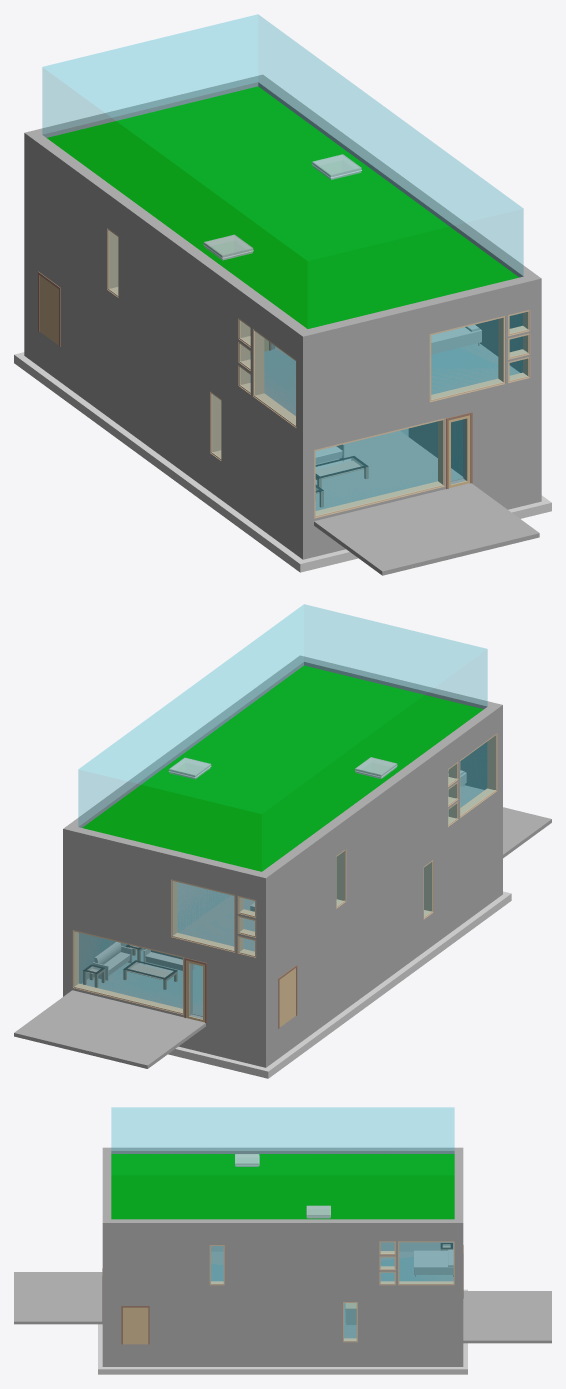
File: duplex.glb
The picture shows the model from 3 angles, top to bottom: view 1: azimuth 30°, elevation 25°; view 2: azimuth 150°, elevation 25°; view 3: azimuth 270°, elevation 25°; orthographic projection. The views are drawn at different scales.
Parts seen in each view (by area): view 1: 0pNy6pOyf7JPmXRLgxs3sW, 3ThA22djr8AQQ9eQMA5s7I, 2O2Fr$t4X7Zf8NOew3FNhv, 2O2Fr$t4X7Zf8NOew3FLPP, 2O2Fr$t4X7Zf8NOew3FLOH, 1CZILmCaHETO8tf3SgGEXu, 2O2Fr$t4X7Zf8NOew3FNr2, 2O2Fr$t4X7Zf8NOew3FKE5, 1hOSvn6df7F8_7GcBWlRBU, 0jf0rYHfX3RAB3bSIRjmr1, 2OBrcmyk58NupXoVOHUtxr, 0jf0rYHfX3RAB3bSIRjmoa (+22 smaller); view 2: 0pNy6pOyf7JPmXRLgxs3sW, 3ThA22djr8AQQ9eQMA5s7I, 2O2Fr$t4X7Zf8NOew3FNhv, 2O2Fr$t4X7Zf8NOew3FLPP, 2O2Fr$t4X7Zf8NOew3FLQD, 1CZILmCaHETO8tf3SgGEWh, 2O2Fr$t4X7Zf8NOew3FNtn, 2O2Fr$t4X7Zf8NOew3FKE5, 1hOSvn6df7F8_7GcBWlR72, 0jf0rYHfX3RAB3bSIRjmr1, 0jf0rYHfX3RAB3bSIRjmmy, 1hOSvn6df7F8_7GcBWlSXO (+23 smaller); view 3: 0pNy6pOyf7JPmXRLgxs3sW, 3ThA22djr8AQQ9eQMA5s7I, 2O2Fr$t4X7Zf8NOew3FNqI, 2O2Fr$t4X7Zf8NOew3FLR9, 2O2Fr$t4X7Zf8NOew3FK9N, 0jf0rYHfX3RAB3bSIRjmpw, 1CZILmCaHETO8tf3SgGEWh, 1CZILmCaHETO8tf3SgGEXu, 0kF45Qs8L9PAM9kmb1lT5d, 1l0GAJtRTFv8$zmKJOH4pU, 0jf0rYHfX3RAB3bSIRjmr1, 1hOSvn6df7F8_7GcBWlRGQ (+11 smaller).
Part boxes in pixels (x1,y1,x2,y2): 0pNy6pOyf7JPmXRLgxs3sW: [42, 14, 523, 328]; 3ThA22djr8AQQ9eQMA5s7I: [47, 86, 518, 328]; 2O2Fr$t4X7Zf8NOew3FNhv: [31, 237, 296, 518]; 2O2Fr$t4X7Zf8NOew3FLPP: [24, 150, 302, 435]; 2O2Fr$t4X7Zf8NOew3FLOH: [303, 296, 541, 436]; 1CZILmCaHETO8tf3SgGEXu: [314, 483, 539, 575]; 2O2Fr$t4X7Zf8NOew3FNr2: [296, 381, 530, 524]; 2O2Fr$t4X7Zf8NOew3FKE5: [31, 325, 296, 554]; 1hOSvn6df7F8_7GcBWlRBU: [314, 418, 445, 518]; 0jf0rYHfX3RAB3bSIRjmr1: [31, 135, 307, 348]; 2OBrcmyk58NupXoVOHUtxr: [315, 429, 463, 510]; 0jf0rYHfX3RAB3bSIRjmoa: [296, 276, 530, 353]; 0pNy6pOyf7JPmXRLgxs3sW: [78, 604, 487, 870]; 3ThA22djr8AQQ9eQMA5s7I: [82, 665, 483, 871]; 2O2Fr$t4X7Zf8NOew3FNhv: [271, 794, 497, 1032]; 2O2Fr$t4X7Zf8NOew3FLPP: [266, 720, 502, 962]; 2O2Fr$t4X7Zf8NOew3FLQD: [63, 843, 265, 962]; 1CZILmCaHETO8tf3SgGEWh: [14, 990, 205, 1068]; 2O2Fr$t4X7Zf8NOew3FNtn: [63, 913, 271, 1037]; 2O2Fr$t4X7Zf8NOew3FKE5: [271, 869, 497, 1063]; 1hOSvn6df7F8_7GcBWlR72: [72, 930, 184, 1015]; 0jf0rYHfX3RAB3bSIRjmr1: [262, 706, 497, 888]; 0jf0rYHfX3RAB3bSIRjmmy: [63, 825, 271, 892]; 1hOSvn6df7F8_7GcBWlSXO: [171, 879, 235, 952]; 0pNy6pOyf7JPmXRLgxs3sW: [111, 1107, 454, 1218]; 3ThA22djr8AQQ9eQMA5s7I: [111, 1154, 454, 1219]; 2O2Fr$t4X7Zf8NOew3FNqI: [102, 1287, 454, 1344]; 2O2Fr$t4X7Zf8NOew3FLR9: [102, 1234, 463, 1287]; 2O2Fr$t4X7Zf8NOew3FK9N: [102, 1344, 454, 1366]; 0jf0rYHfX3RAB3bSIRjmpw: [102, 1219, 454, 1233]; 1CZILmCaHETO8tf3SgGEWh: [463, 1291, 551, 1343]; 1CZILmCaHETO8tf3SgGEXu: [14, 1272, 102, 1324]; 0kF45Qs8L9PAM9kmb1lT5d: [98, 1361, 467, 1374]; 1l0GAJtRTFv8$zmKJOH4pU: [398, 1241, 454, 1285]; 0jf0rYHfX3RAB3bSIRjmr1: [111, 1147, 454, 1153]; 1hOSvn6df7F8_7GcBWlRGQ: [121, 1306, 149, 1344].
Bounding box in the file's own units: 9.28 × 10.55 × 26.57.
